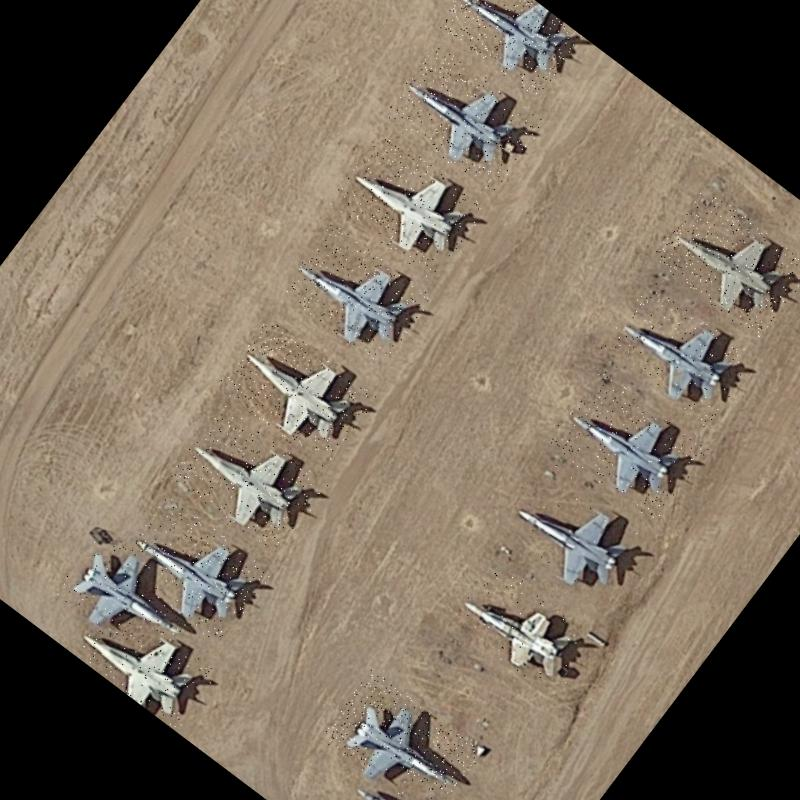A16: (544, 368, 710, 524), (382, 40, 546, 196), (215, 316, 378, 470), (168, 404, 330, 556), (328, 130, 488, 282), (114, 494, 273, 646), (444, 557, 604, 704), (650, 186, 800, 341), (600, 280, 757, 428), (496, 460, 652, 608), (280, 222, 434, 368), (51, 528, 203, 672), (318, 668, 483, 800), (69, 592, 220, 732), (433, 0, 583, 100), (335, 754, 491, 800)
